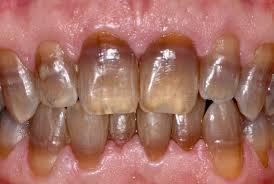Discoloration: (72, 21, 140, 112), (137, 24, 200, 109), (205, 97, 250, 182), (27, 101, 69, 177), (32, 40, 80, 105), (69, 100, 112, 172), (0, 50, 43, 120), (201, 30, 242, 101), (235, 40, 274, 112), (133, 105, 174, 167), (242, 104, 274, 166), (173, 100, 207, 155), (107, 96, 139, 154), (0, 107, 33, 160)
